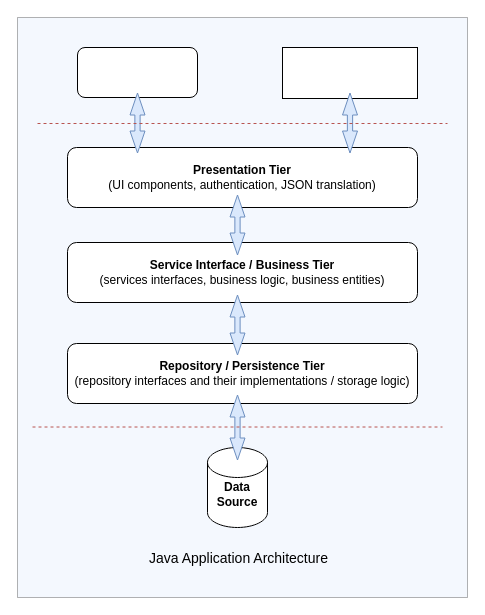
Some shapes in this 485 by 615 pixel diagram are drawn without their labels. The box of each missing label's shape, as (x1, y1, x2, y2) in pixels:
Consumers of Service: (282, 46, 418, 98)
Users: (76, 46, 198, 98)
